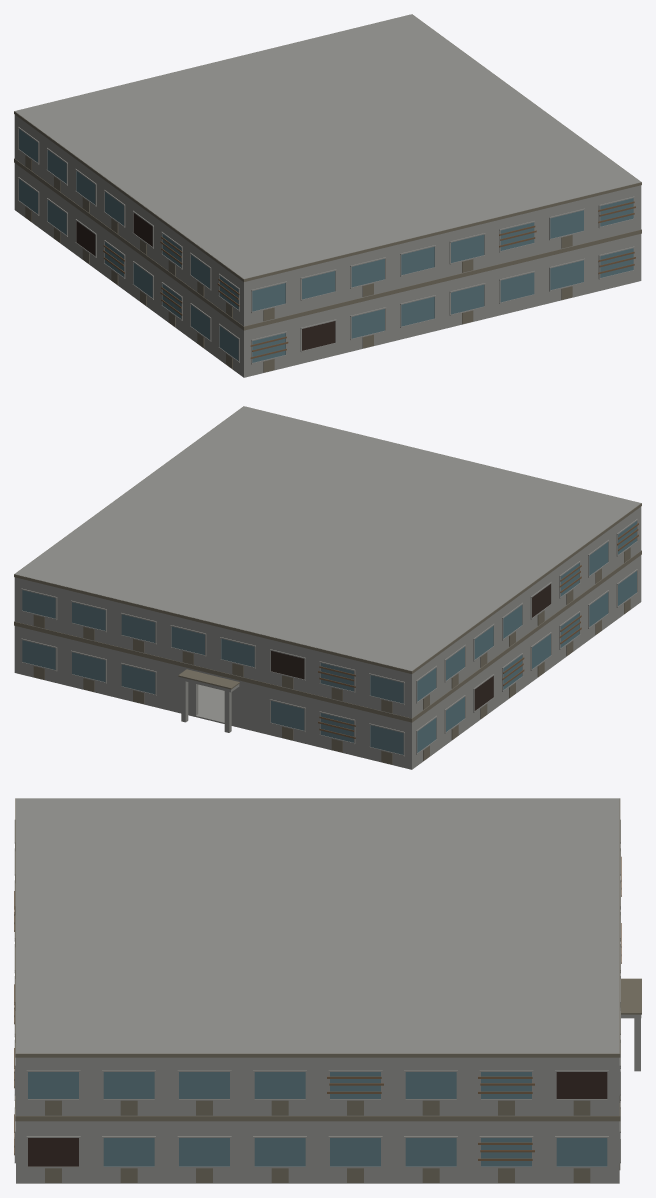
File: tw_slab_32_base.glb
The picture shows the model from 3 angles, top to bottom: view 1: azimuth 30°, elevation 25°; view 2: azimuth 150°, elevation 25°; view 3: azimuth 270°, elevation 25°; orthographic projection. The views are drawn at different scales.
Parts seen in each view (by area): view 1: tw_slab_32_base; view 2: tw_slab_32_base; view 3: tw_slab_32_base.
Boxes of the visible parts, x1,y1,x2,y2 form: tw_slab_32_base: (14,14,641,377); tw_slab_32_base: (14,406,641,769); tw_slab_32_base: (14,798,641,1183).
Size of what is drawn, in the model's own units: 32.2 by 7.6 by 33.28.
3 materials, 3 textured.
